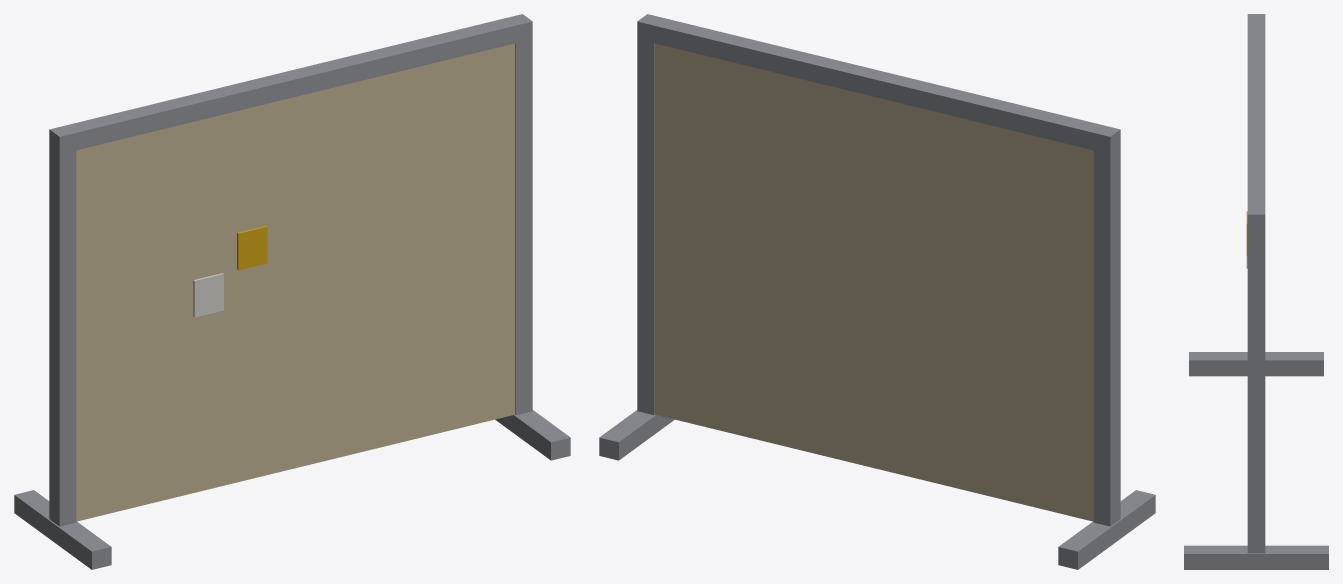
File: office-partition-00.glb
3 renders of one model, left to right at view 1: azimuth 30°, elevation 25°; view 2: azimuth 150°, elevation 25°; view 3: azimuth 270°, elevation 25°, orthographic. The views are drawn at different scales.
Visible parts, largest first — view 1: office_partition_00; view 2: office_partition_00; view 3: office_partition_00.
Boxes of the visible parts, x1,y1,x2,y2 form: office_partition_00: (14,14,570,569); office_partition_00: (599,14,1155,569); office_partition_00: (1184,14,1328,569).
Size of the model in its own units: 1.63 by 1.34 by 0.495.
